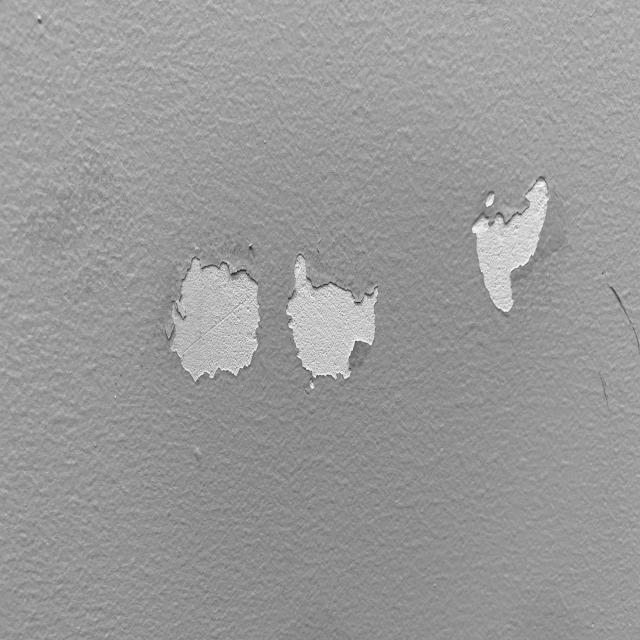peeling paint: (152, 219, 270, 413), (459, 161, 567, 339), (283, 245, 389, 402)
